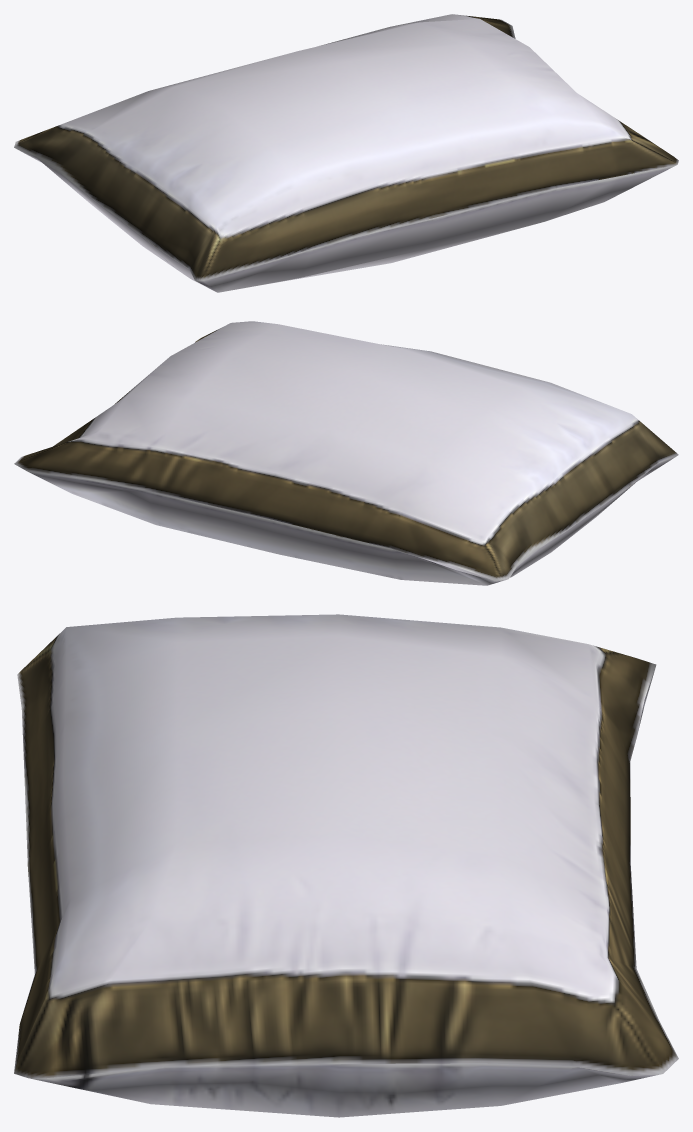
File: Bed02Pillow01.FBX
3 views of the same model, one above another, from view 1: azimuth 30°, elevation 25°; view 2: azimuth 150°, elevation 25°; view 3: azimuth 270°, elevation 25° (orthographic). The views are drawn at different scales.
Parts seen in each view (by area): view 1: Bed02Pillow01; view 2: Bed02Pillow01; view 3: Bed02Pillow01.
Part boxes in pixels (x1,y1,x2,y2): Bed02Pillow01: (14,14,678,292); Bed02Pillow01: (14,321,678,585); Bed02Pillow01: (14,614,678,1117).
Size of the model in its own units: 97.72 by 65.37 by 31.3.
